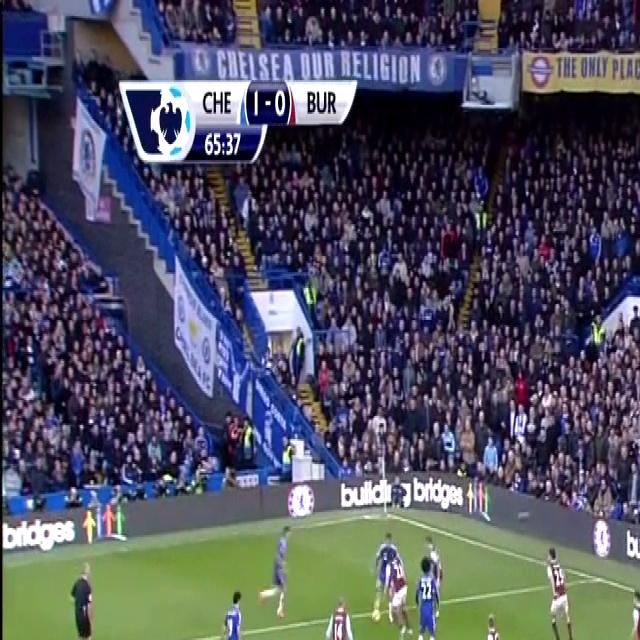referee: (64, 554, 99, 640)
soccer-player: (539, 533, 580, 640), (369, 522, 405, 640), (259, 520, 295, 624), (412, 549, 446, 640), (421, 532, 446, 624), (220, 585, 261, 640), (316, 595, 361, 640), (477, 601, 513, 640), (626, 585, 640, 640)
